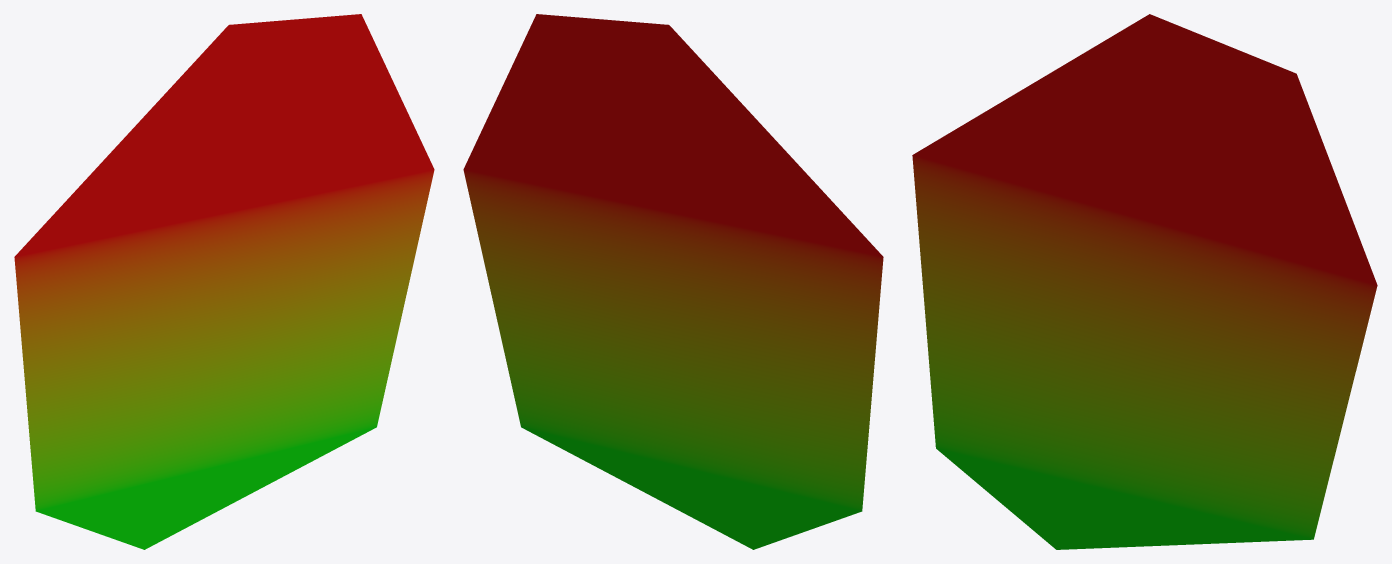
The model's file is Var2_LOD3.fbx.
3 renders of one model, left to right at view 1: azimuth 30°, elevation 25°; view 2: azimuth 150°, elevation 25°; view 3: azimuth 330°, elevation 25°, orthographic. The views are drawn at different scales.
Parts seen in each view (by area): view 1: Var2_LOD3; view 2: Var2_LOD3; view 3: Var2_LOD3.
Boxes of the visible parts, box(x1,y1,x2,y2) form: Var2_LOD3: box(14, 14, 434, 549); Var2_LOD3: box(463, 14, 883, 549); Var2_LOD3: box(912, 14, 1377, 549).
Size of the model in its own units: 56 by 64.27 by 7.43e-06.
